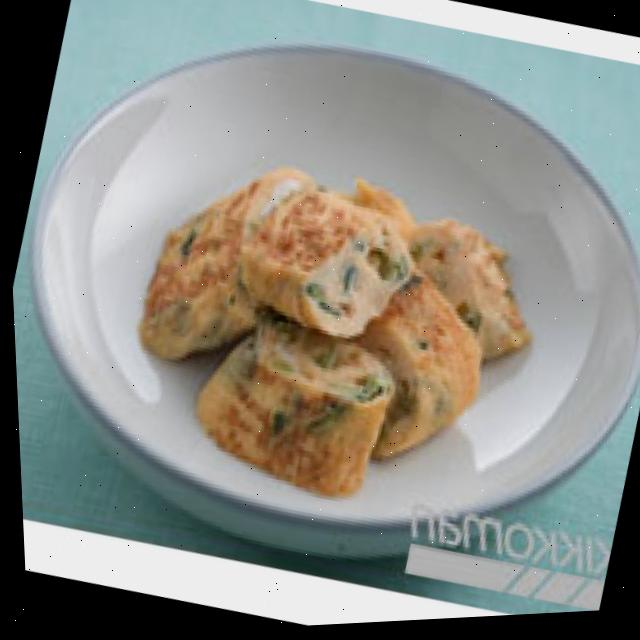鸡蛋料理: (63, 113, 565, 546)
